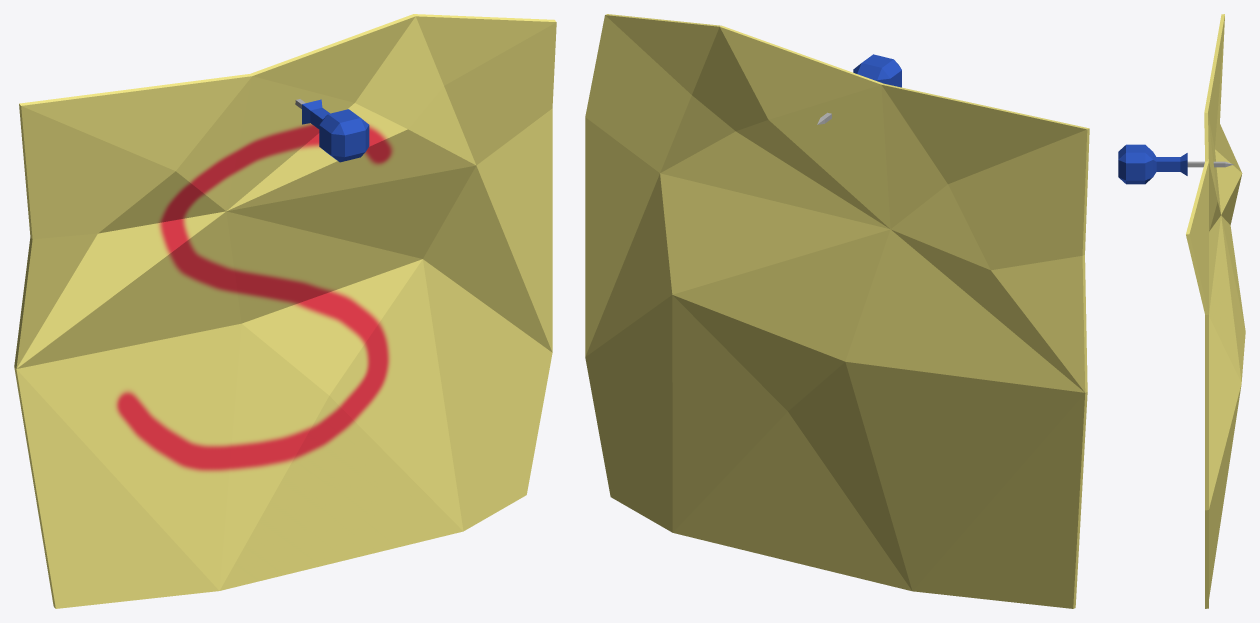
File: Paper Letter S.fbx
3 renders of one model, left to right at view 1: azimuth 30°, elevation 25°; view 2: azimuth 150°, elevation 25°; view 3: azimuth 270°, elevation 25°, orthographic. The views are drawn at different scales.
Parts seen in each view (by area): view 1: Papier, Punaise; view 2: Papier, Punaise; view 3: Papier, Punaise.
Boxes of the visible parts, <box> form: Papier: <box>14,14,556,608</box>; Punaise: <box>295,99,369,162</box>; Papier: <box>585,14,1089,608</box>; Punaise: <box>817,54,901,124</box>; Papier: <box>1186,14,1245,608</box>; Punaise: <box>1118,144,1233,184</box>.
Bounding box in the file's own units: 208 × 200 × 54.89.
